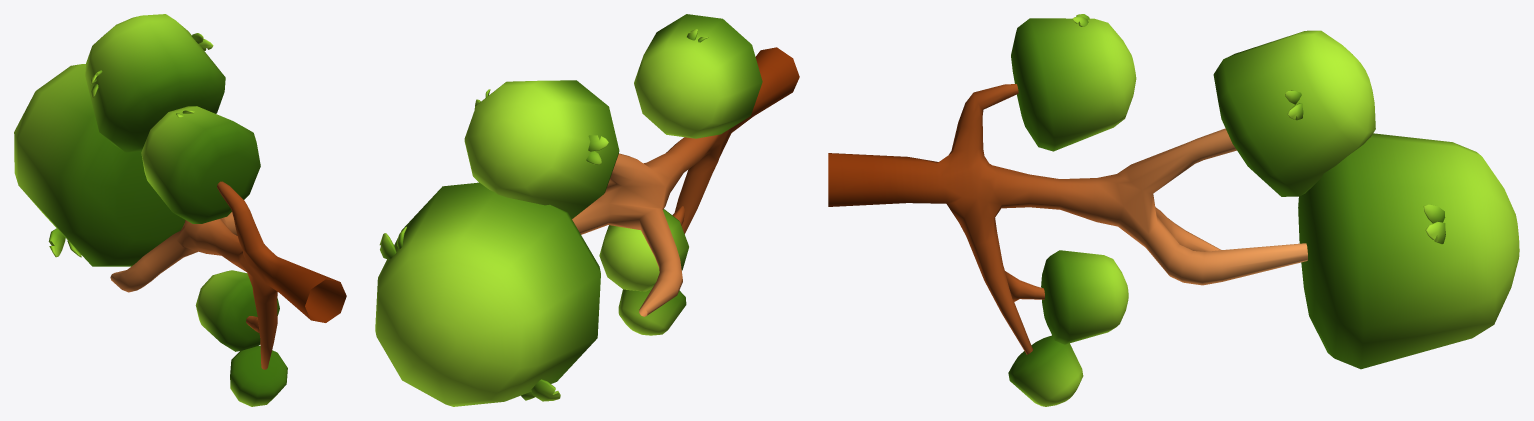
Rendered from TREETerrain.fbx.
3 views of the same model, side by side, from view 1: azimuth 30°, elevation 25°; view 2: azimuth 150°, elevation 25°; view 3: azimuth 270°, elevation 25° (orthographic). The views are drawn at different scales.
Visible parts, largest first — view 1: treevar1.004; view 2: treevar1.004; view 3: treevar1.004.
Boxes of the visible parts, x1=… form: treevar1.004: x1=14, y1=14, x2=346, y2=406; treevar1.004: x1=375, y1=14, x2=799, y2=406; treevar1.004: x1=828, y1=14, x2=1519, y2=406.
Bounding box in the file's own units: 488 × 748 × 1277.
